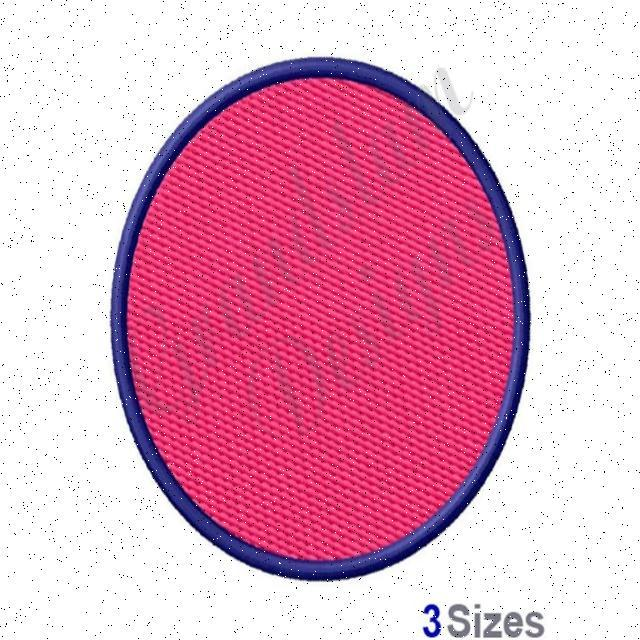Circle: (111, 59, 529, 579)
